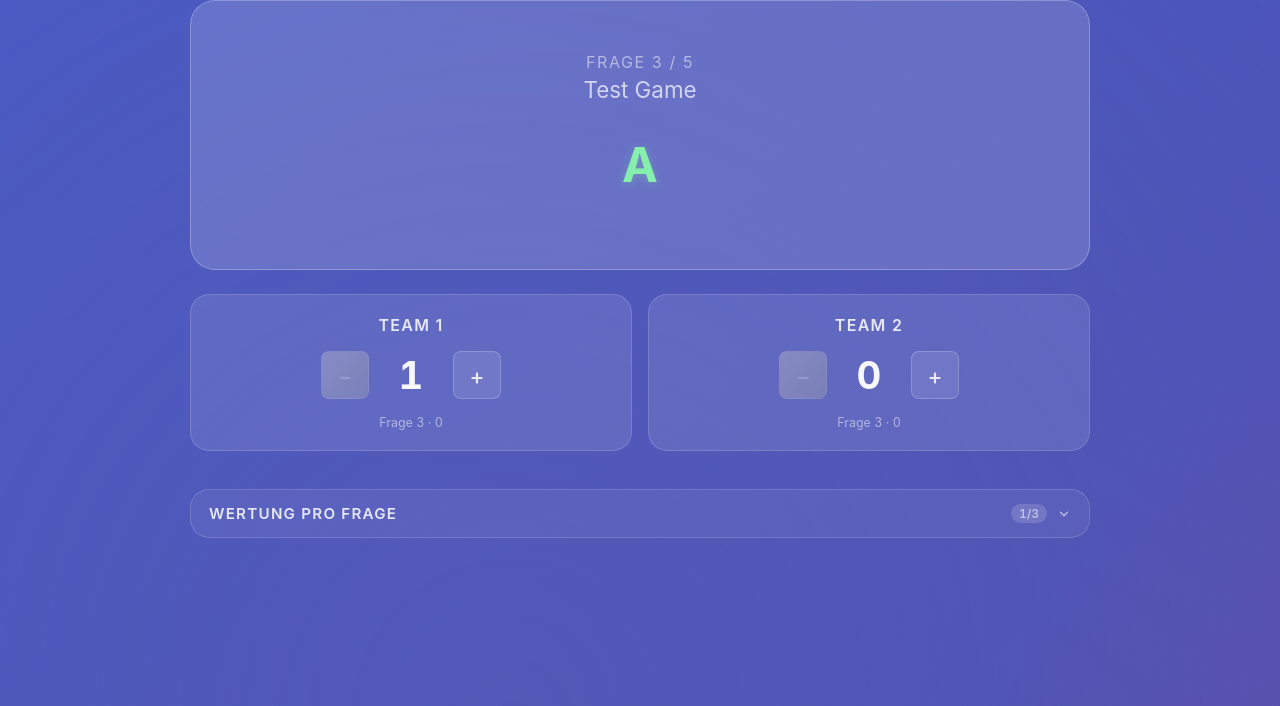
it: QuestionScorePanel — tally feed (normal games) › disables a row's − at zero
Check: the element with class "gm-qscore" is shown, box [190,489,1090,538]
Click the text "Wertung pro Frage": (303,514) [209,504,397,523]
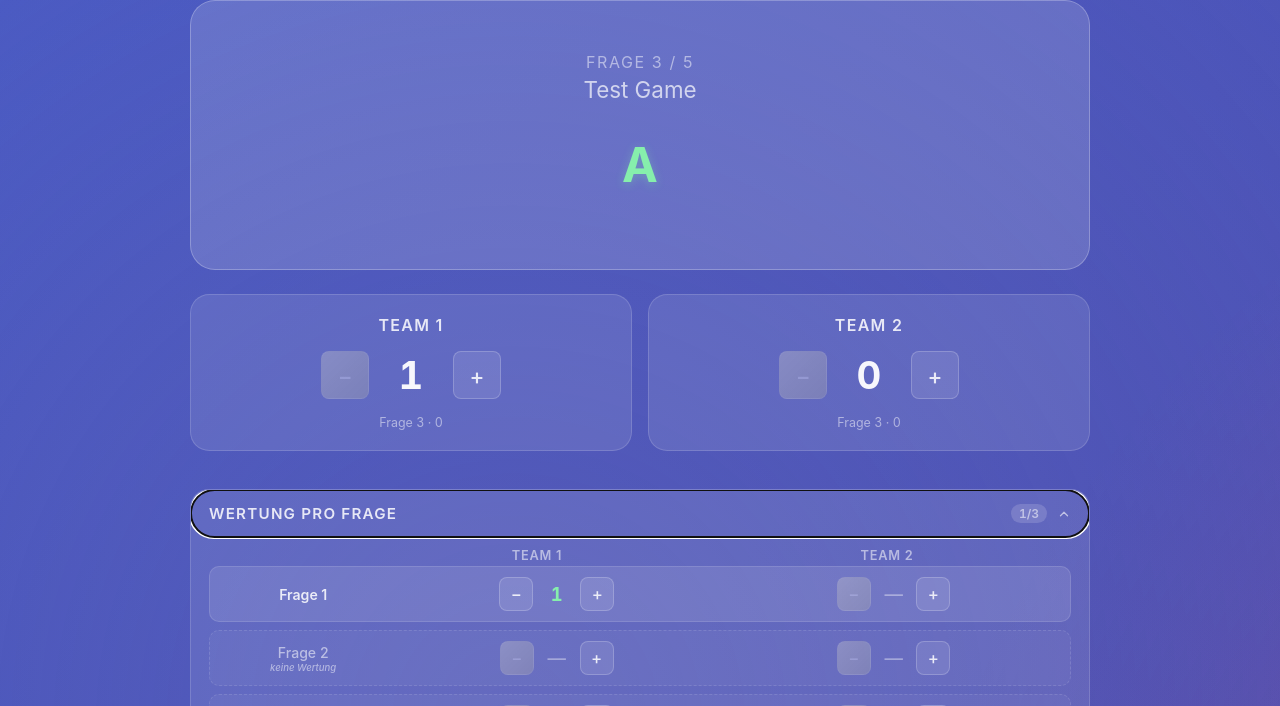
Check: the button named "Frage 1 Team 1 minus" is enabled, box [499,577,533,611]
Check: the button named "Frage 1 Team 2 minus" is disabled, box [837,577,871,611]
